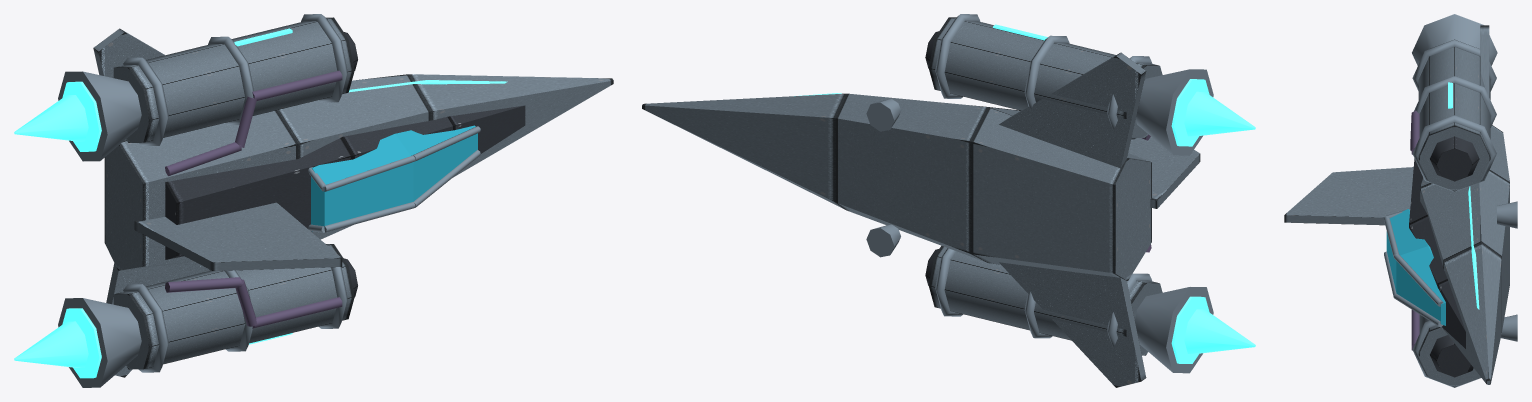
The model's file is rocket-low.glb.
The picture shows the model from 3 angles, left to right: view 1: azimuth 30°, elevation 25°; view 2: azimuth 150°, elevation 25°; view 3: azimuth 270°, elevation 25°; orthographic projection. The views are drawn at different scales.
Visible parts, largest first — view 1: rocket-root.001 / Brushed pale alloy.003, rocket-root.001 / Titanium edges.003, rocket-root.001 / Ceramic graphite.003, rocket-root.001 / Cyan glazing.003, rocket-root.001 / Anodized hardware.003, rocket-root.001 / Cyan instrumentation.003, Engine exhaust.002 / Cyan instrumentation.003, Engine exhaust.003 / Cyan instrumentation.003; view 2: rocket-root.001 / Brushed pale alloy.003, rocket-root.001 / Titanium edges.003, rocket-root.001 / Cyan instrumentation.003, Engine exhaust.003 / Cyan instrumentation.003, Engine exhaust.002 / Cyan instrumentation.003; view 3: rocket-root.001 / Brushed pale alloy.003, rocket-root.001 / Titanium edges.003, rocket-root.001 / Ceramic graphite.003, rocket-root.001 / Cyan glazing.003, rocket-root.001 / Anodized hardware.003, rocket-root.001 / Cyan instrumentation.003.
Part boxes in pixels (<box>): rocket-root.001 / Brushed pale alloy.003: <box>93,17,613,377</box>; rocket-root.001 / Titanium edges.003: <box>58,14,480,387</box>; rocket-root.001 / Ceramic graphite.003: <box>165,32,525,296</box>; rocket-root.001 / Cyan glazing.003: <box>311,125,477,231</box>; rocket-root.001 / Anodized hardware.003: <box>165,70,342,328</box>; rocket-root.001 / Cyan instrumentation.003: <box>62,28,507,378</box>; Engine exhaust.002 / Cyan instrumentation.003: <box>14,321,88,367</box>; Engine exhaust.003 / Cyan instrumentation.003: <box>14,95,88,141</box>; rocket-root.001 / Brushed pale alloy.003: <box>642,17,1200,387</box>; rocket-root.001 / Titanium edges.003: <box>866,14,1213,373</box>; rocket-root.001 / Cyan instrumentation.003: <box>794,24,1209,363</box>; Engine exhaust.003 / Cyan instrumentation.003: <box>1184,91,1255,136</box>; Engine exhaust.002 / Cyan instrumentation.003: <box>1184,309,1255,353</box>; rocket-root.001 / Brushed pale alloy.003: <box>1284,25,1509,387</box>; rocket-root.001 / Titanium edges.003: <box>1384,14,1517,387</box>; rocket-root.001 / Ceramic graphite.003: <box>1409,136,1479,377</box>; rocket-root.001 / Cyan glazing.003: <box>1386,209,1445,325</box>; rocket-root.001 / Anodized hardware.003: <box>1410,110,1419,350</box>; rocket-root.001 / Cyan instrumentation.003: <box>1448,82,1479,309</box>.
Bounding box in the file's own units: 1.7 × 0.9092 × 0.6437.
Materials: 6 (2 with a texture image).
